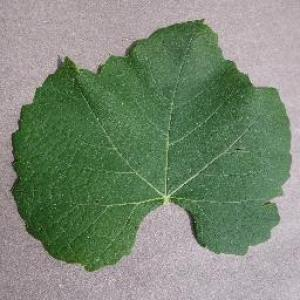Folha: (9, 17, 292, 272)
